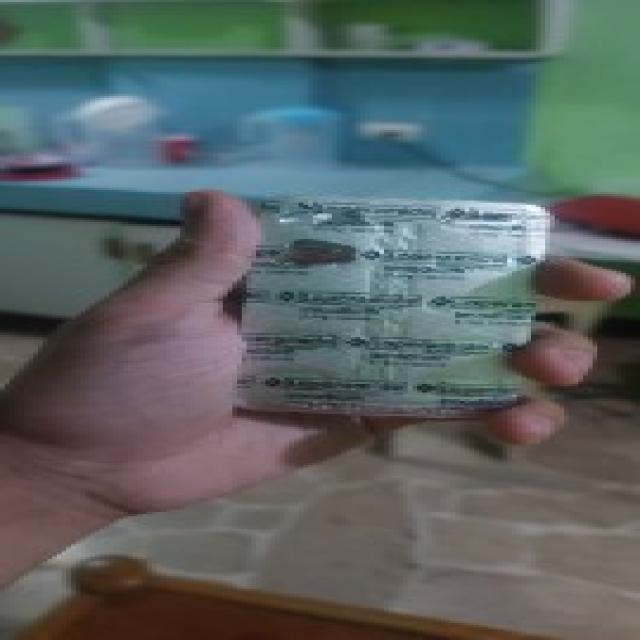Cacat: (233, 199, 550, 419)
Kemasan: (272, 235, 358, 275)
